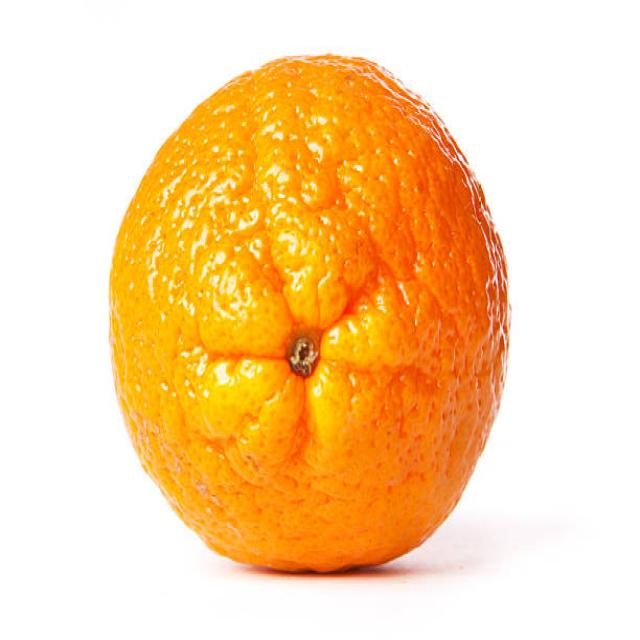overripe: (105, 49, 518, 581)
